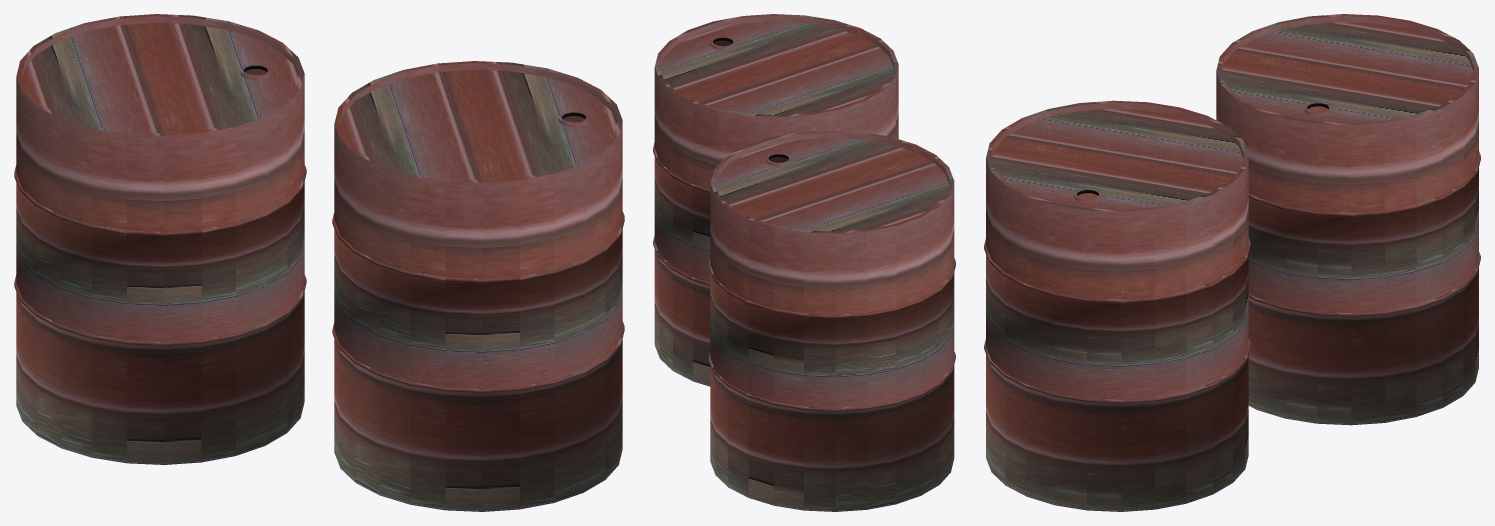
Rendered from GettoTape5__BetterToender.glb.
3 renders of one model, left to right at view 1: azimuth 30°, elevation 25°; view 2: azimuth 150°, elevation 25°; view 3: azimuth 270°, elevation 25°, orthographic. The views are drawn at different scales.
Visible parts, largest first — view 1: Barrel, Barrel.001; view 2: Barrel.001, Barrel; view 3: Barrel, Barrel.001.
Part boxes in pixels (x1,y1,x2,y2): Barrel: [332, 61, 624, 511]; Barrel.001: [14, 14, 306, 464]; Barrel.001: [708, 130, 955, 511]; Barrel: [653, 14, 898, 386]; Barrel: [984, 100, 1250, 511]; Barrel.001: [1216, 14, 1480, 425].
Size of the model in its own units: 0.3028 by 0.2149 by 0.3209.
2 materials, 1 textured.
